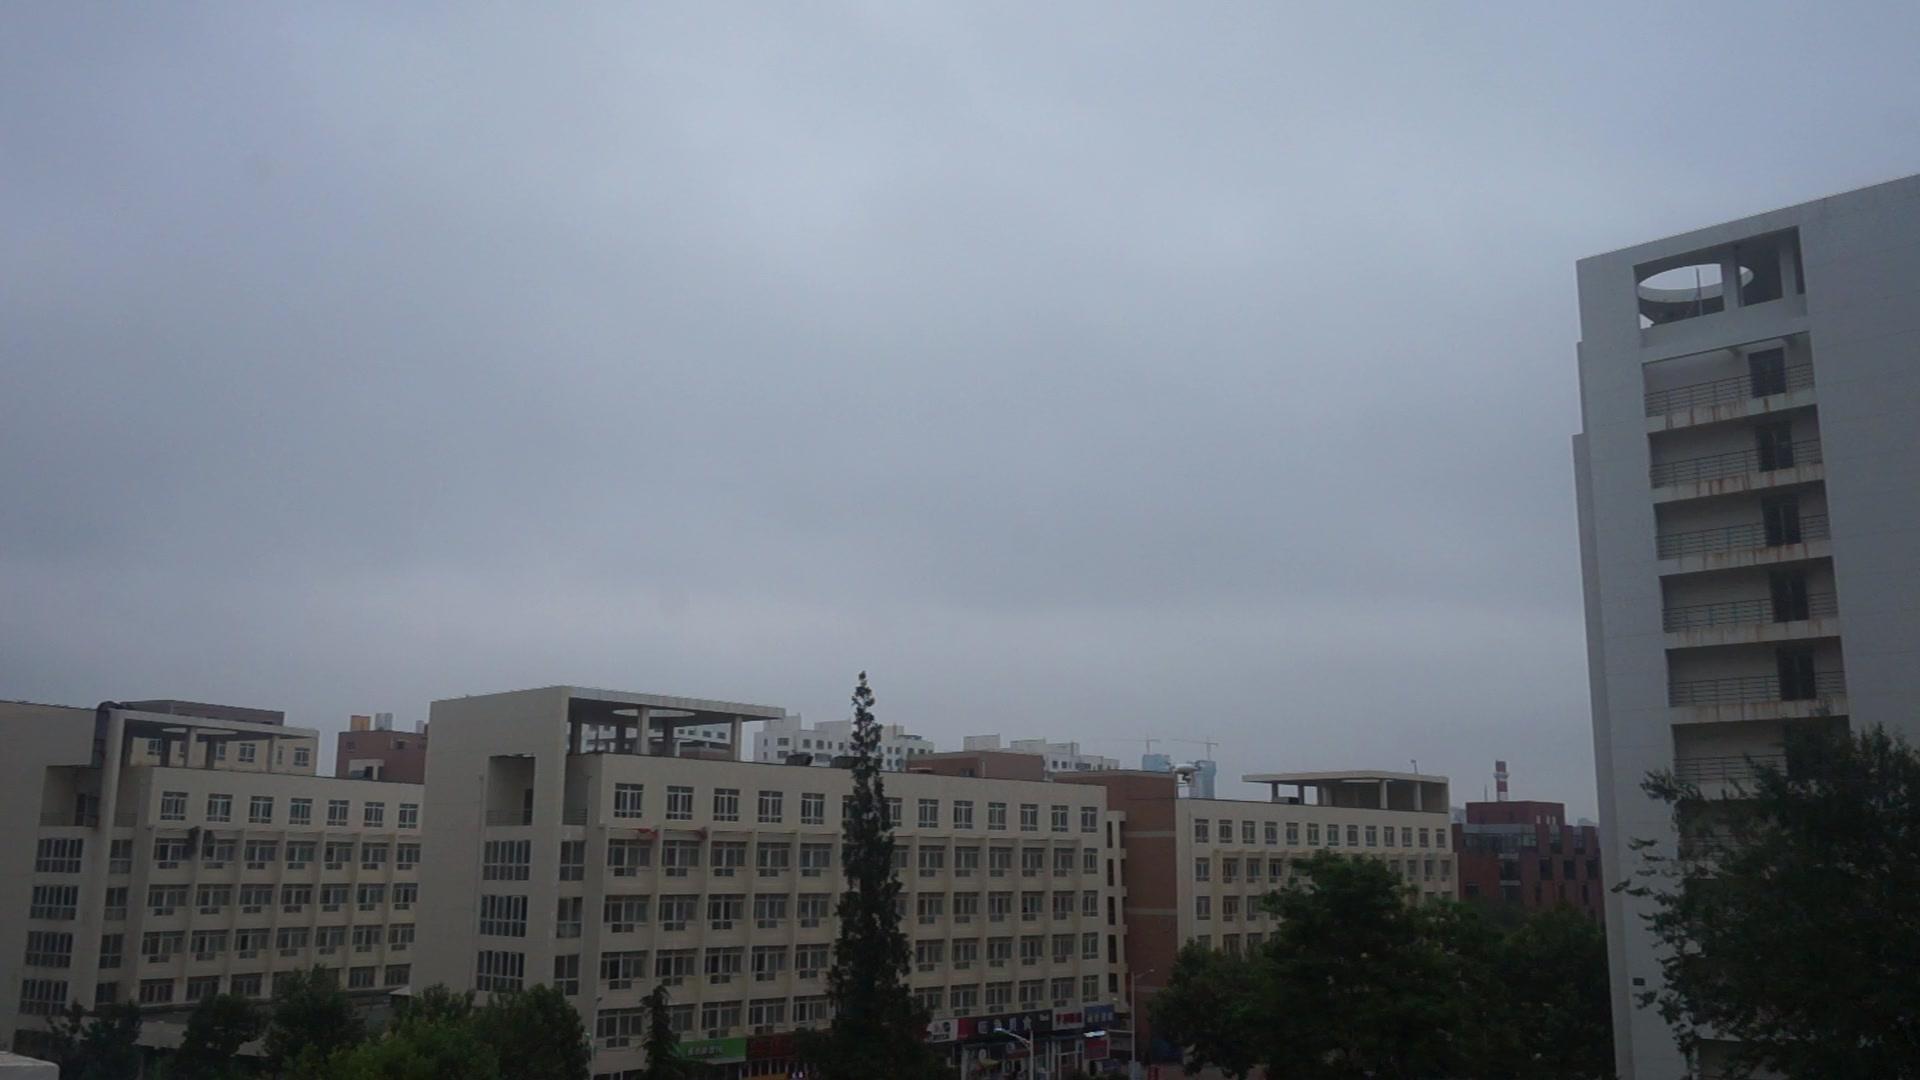UAV: (1162, 760, 1211, 787)
